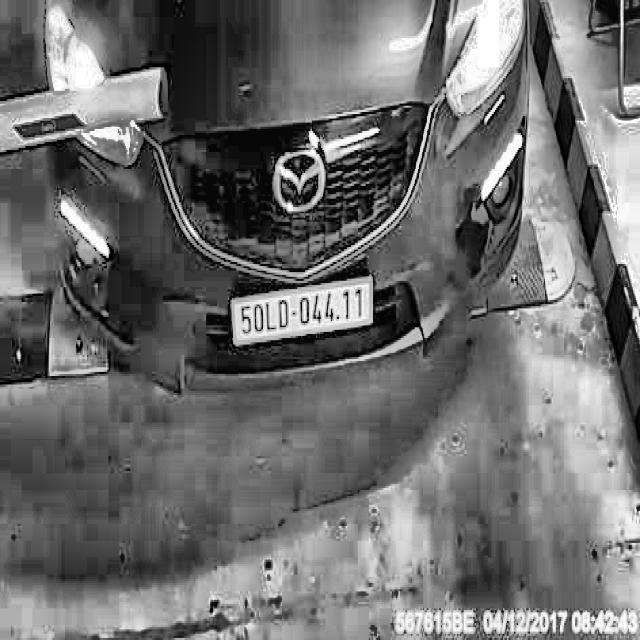plate: (228, 272, 379, 348)
